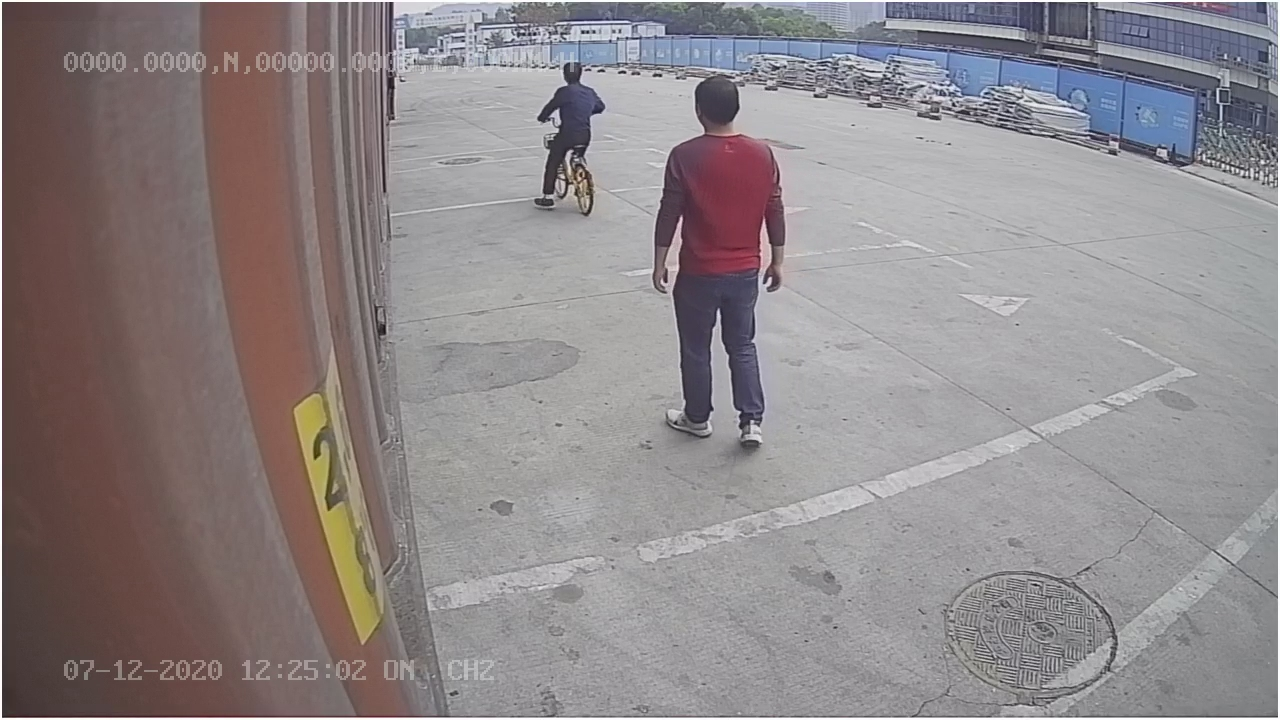person: (648, 75, 790, 454)
